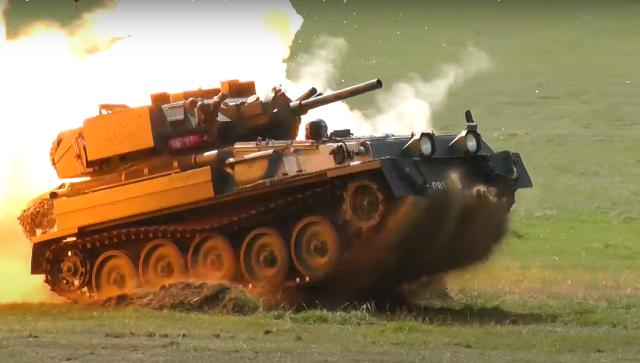tank: (29, 89, 508, 302)
